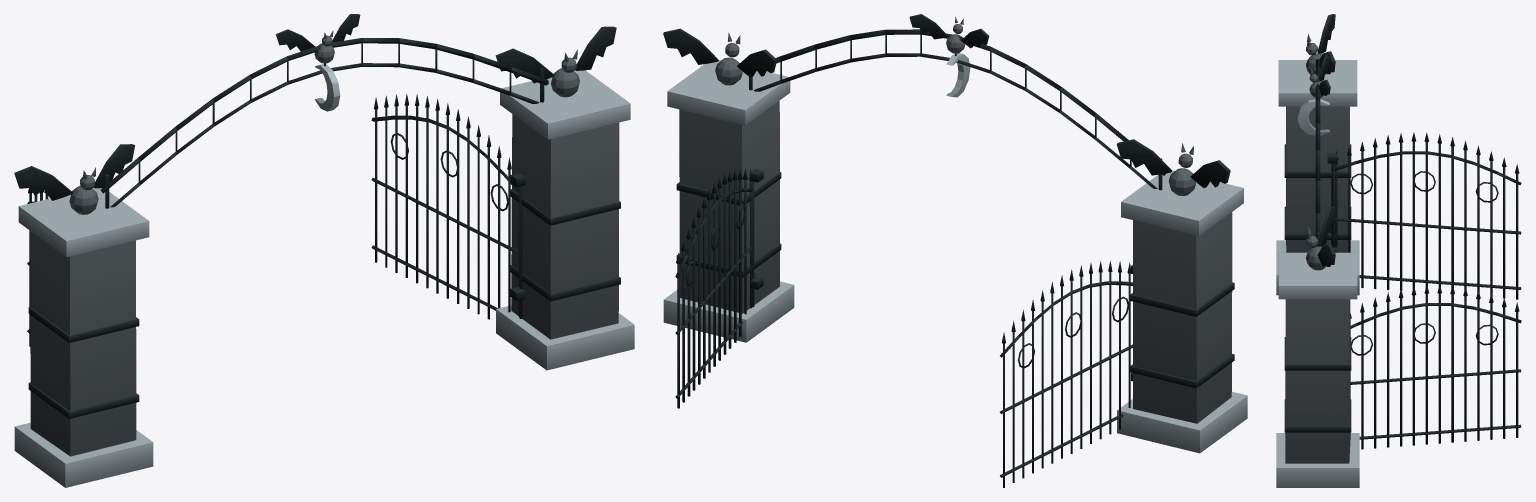
The model's file is morvaine_gate.glb.
The picture shows the model from 3 angles, left to right: view 1: azimuth 30°, elevation 25°; view 2: azimuth 150°, elevation 25°; view 3: azimuth 270°, elevation 25°; orthographic projection. The views are drawn at different scales.
Visible parts, largest first — view 1: morvaine_gate; view 2: morvaine_gate; view 3: morvaine_gate.
Boxes of the visible parts, x1,y1,x2,y2 form: morvaine_gate: (14,14,634,487); morvaine_gate: (663,14,1247,487); morvaine_gate: (1276,14,1521,487).
Size of the model in its own units: 11.62 by 6.9 by 5.
1 material, 1 textured.
